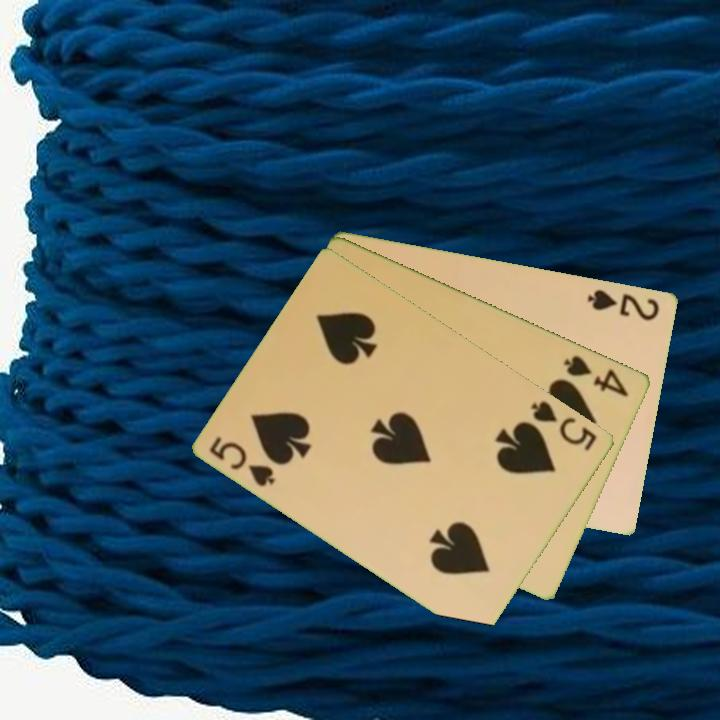2s: (584, 285, 663, 323)
4s: (560, 351, 632, 400)
5s: (528, 397, 601, 455), (206, 433, 279, 490)
